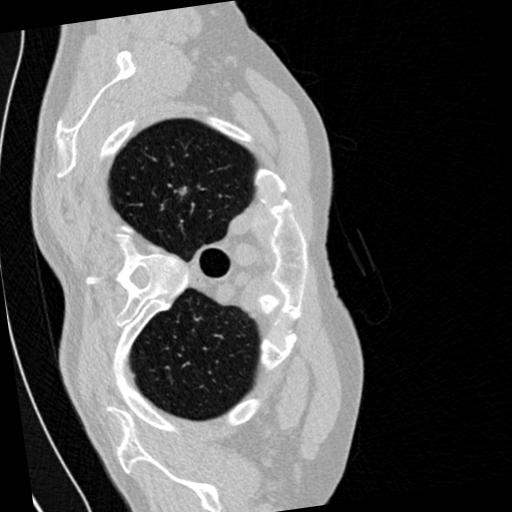nodule: (176, 183, 192, 199)
